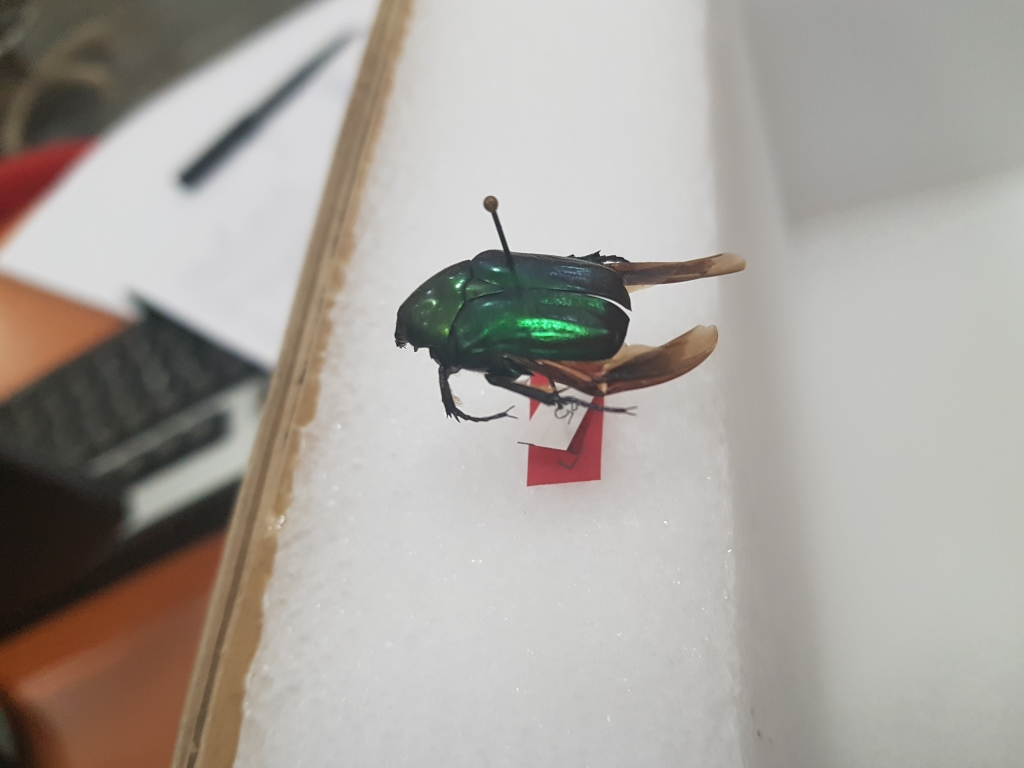Protaetia_besucheti: (387, 235, 763, 424)
